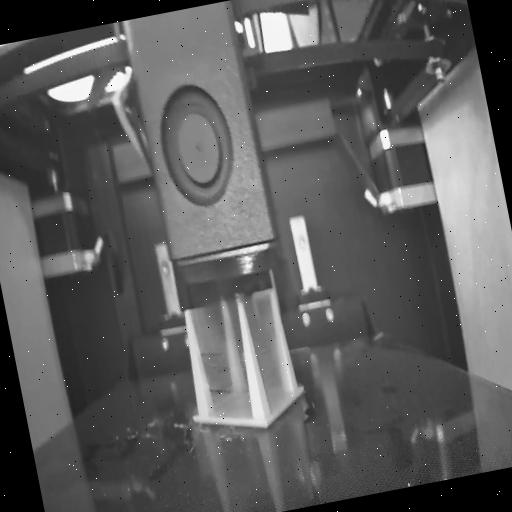stringing: (187, 297, 258, 438), (242, 288, 300, 426)
